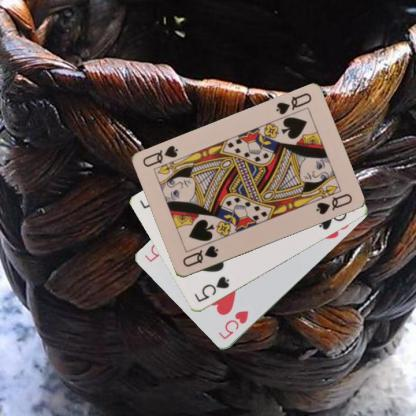5h: (216, 308, 250, 341)
5s: (191, 274, 231, 304)
Qs: (180, 243, 220, 269), (273, 90, 313, 116)
